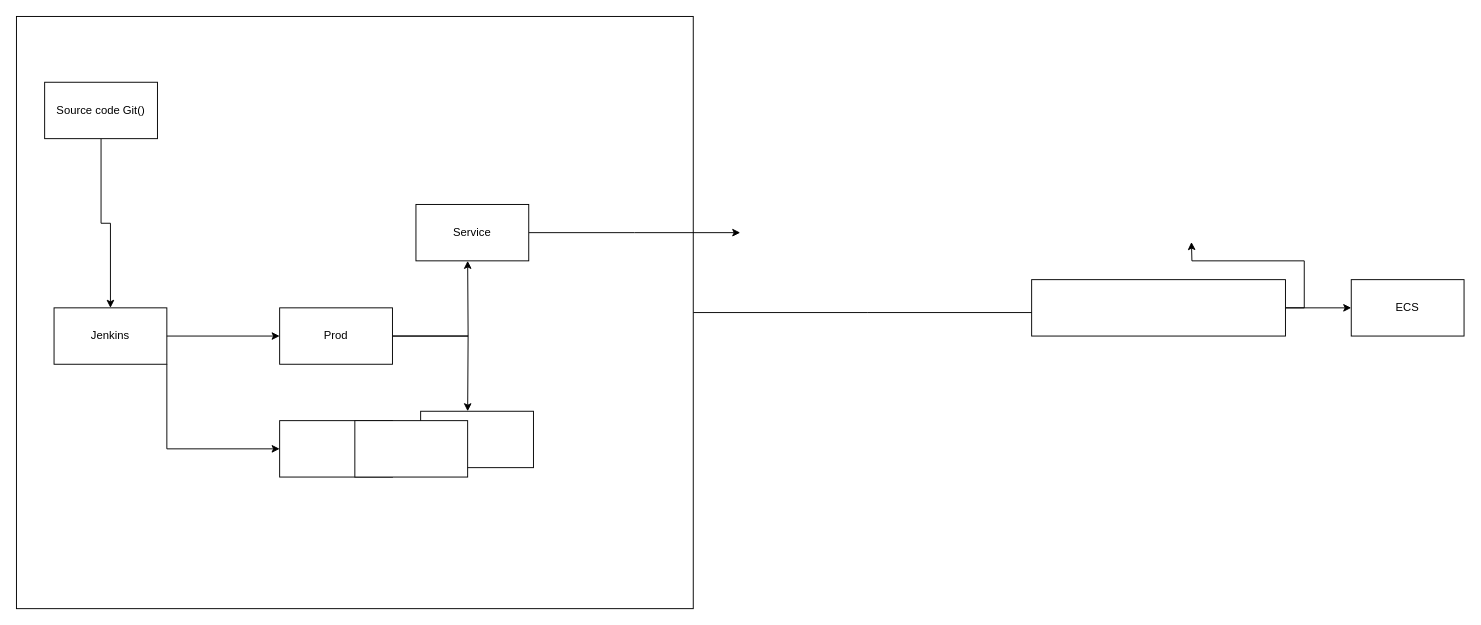
Image size: 1481x625. Some labels were removed from this diagram. Each missing label, with the box of its shape:
AWS: (1031, 279, 1285, 336)
Non prod: (279, 420, 392, 477)
Service 2: (420, 410, 533, 468)
